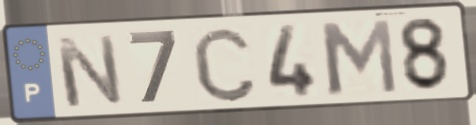4: (265, 20, 320, 101)
7: (125, 27, 183, 108)
8: (396, 15, 453, 93)
C: (188, 23, 260, 105)
M: (315, 16, 402, 97)
N: (52, 32, 127, 110)
